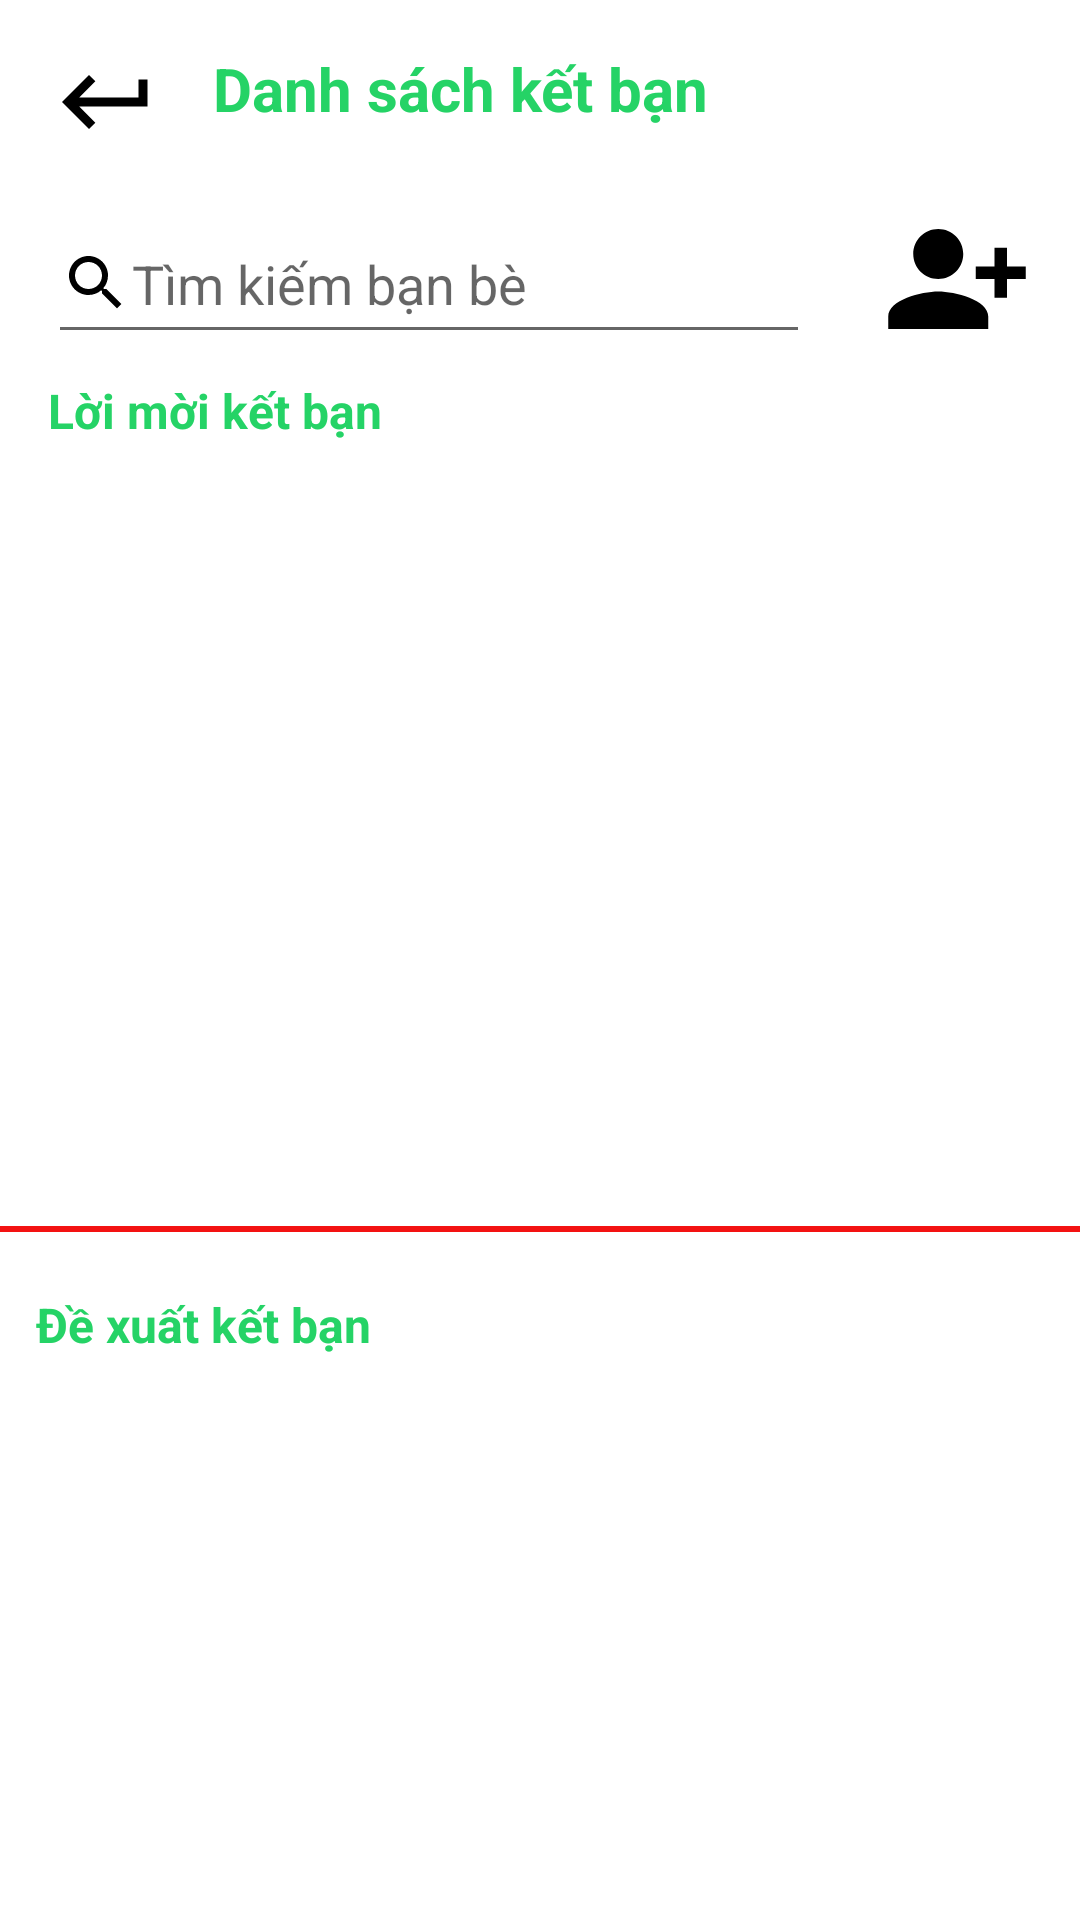

Icon click points for this 1080px×1920px phone screenshot, format point (x, y):
keyboard return: point (105, 102)
person add: point (957, 279)
